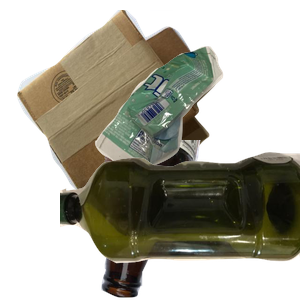cardboard: (14, 10, 222, 190)
glass: (99, 140, 300, 300)
plastic: (60, 149, 300, 300)
trash: (92, 44, 300, 211)
